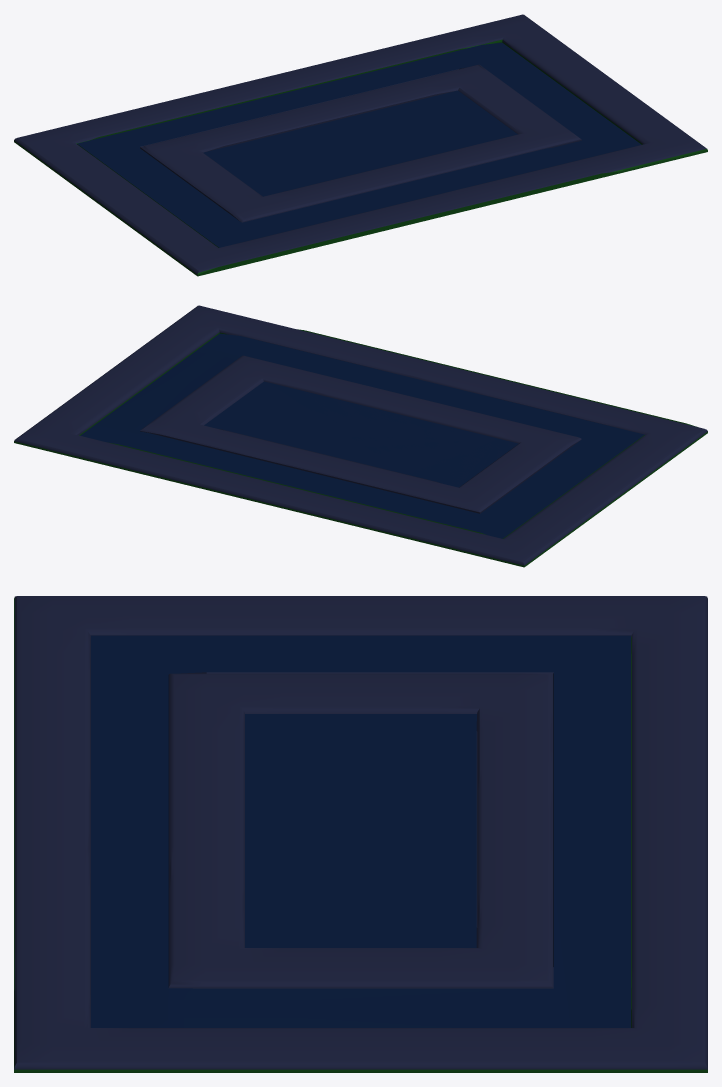
File: tapete4.fbx
3 views of the same model, one above another, from view 1: azimuth 30°, elevation 25°; view 2: azimuth 150°, elevation 25°; view 3: azimuth 270°, elevation 25° (orthographic). The views are drawn at different scales.
Parts seen in each view (by area): view 1: Plane; view 2: Plane; view 3: Plane.
Part boxes in pixels (left/top/right/bottom): Plane: left=14, top=14, right=707, bottom=276; Plane: left=14, top=305, right=707, bottom=567; Plane: left=14, top=596, right=707, bottom=1072.
Size of the model in its own units: 321 by 3.16 by 200.
